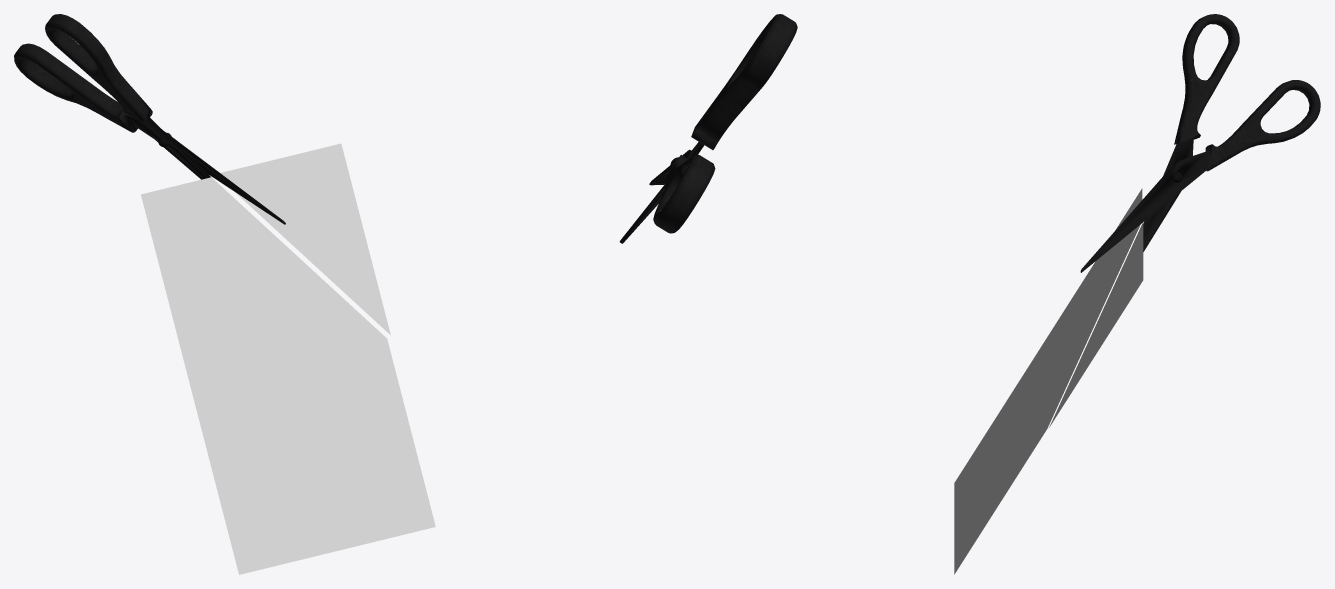
3 renders of one model, left to right at view 1: azimuth 30°, elevation 25°; view 2: azimuth 150°, elevation 25°; view 3: azimuth 270°, elevation 25°, orthographic. The views are drawn at different scales.
Parts seen in each view (by area): view 1: Plane.002, Plane.003, Symbol_S, Symbol_S.001; view 2: Symbol_S, Symbol_S.001; view 3: Plane.002, Symbol_S.001, Symbol_S, Plane.003.
Part boxes in pixels (x1,y1,x2,y2): Plane.002: (141,177,435,574); Plane.003: (220,143,390,335); Symbol_S: (45,14,210,179); Symbol_S.001: (14,43,285,224); Symbol_S: (619,14,797,243); Symbol_S.001: (649,149,715,233); Plane.002: (954,188,1142,574); Symbol_S.001: (1080,80,1320,272); Symbol_S: (1143,14,1239,251); Plane.003: (1049,222,1143,427).
Bounding box in the file's own units: 2.56 × 4.57 × 3.37.
1 material, 1 textured.
